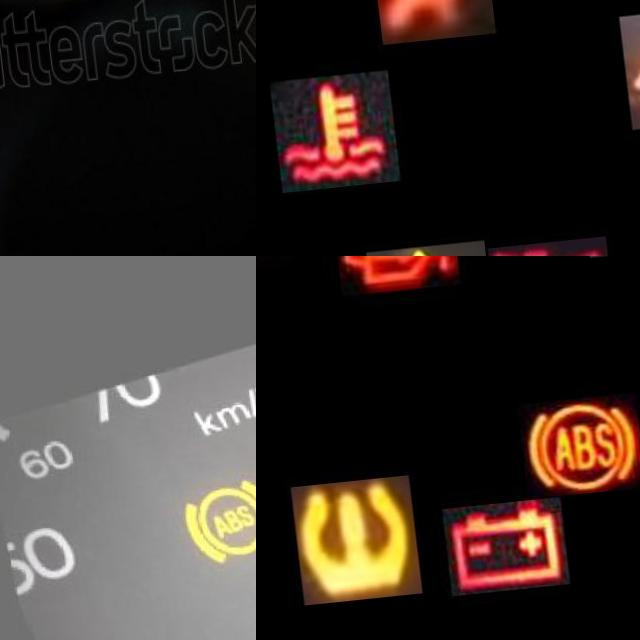Engine cooling system: (264, 73, 392, 193)
